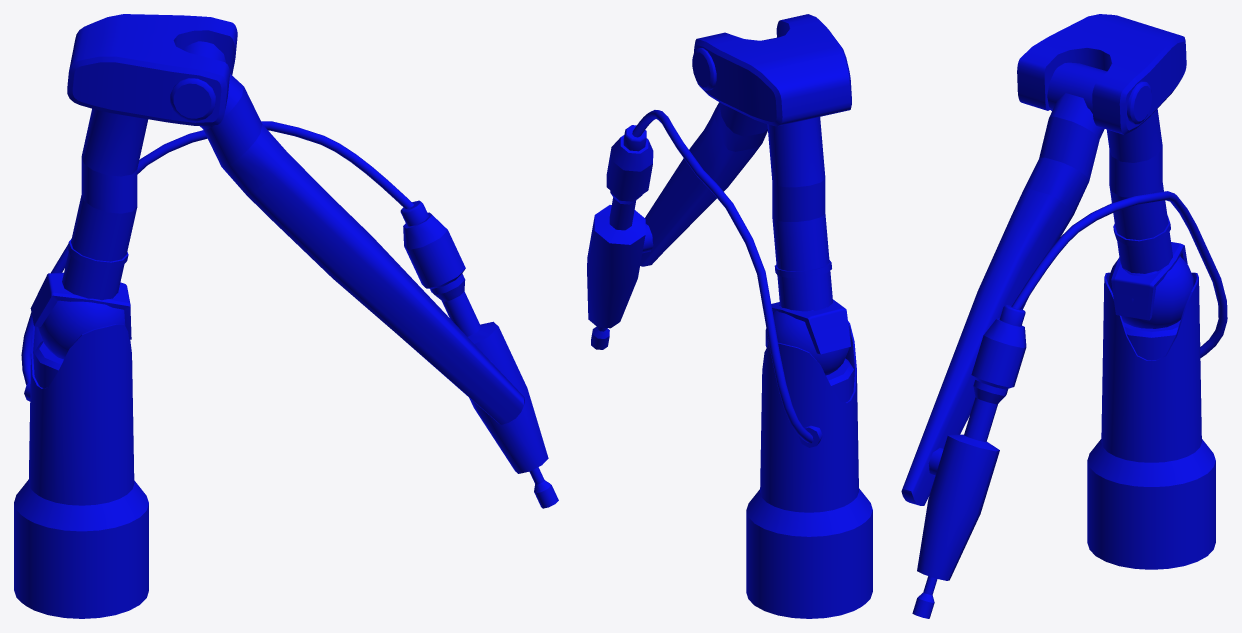
Rendered from DeskArm.FBX.
3 views of the same model, side by side, from view 1: azimuth 30°, elevation 25°; view 2: azimuth 150°, elevation 25°; view 3: azimuth 270°, elevation 25° (orthographic). The views are drawn at different scales.
Parts seen in each view (by area): view 1: Arm_Table; view 2: Arm_Table; view 3: Arm_Table.
Boxes of the visible parts, x1,y1,x2,y2 form: Arm_Table: (14,14,558,618); Arm_Table: (587,14,872,618); Arm_Table: (901,14,1227,618).
Bounding box in the file's own units: 22.42 × 29.03 × 16.29.
